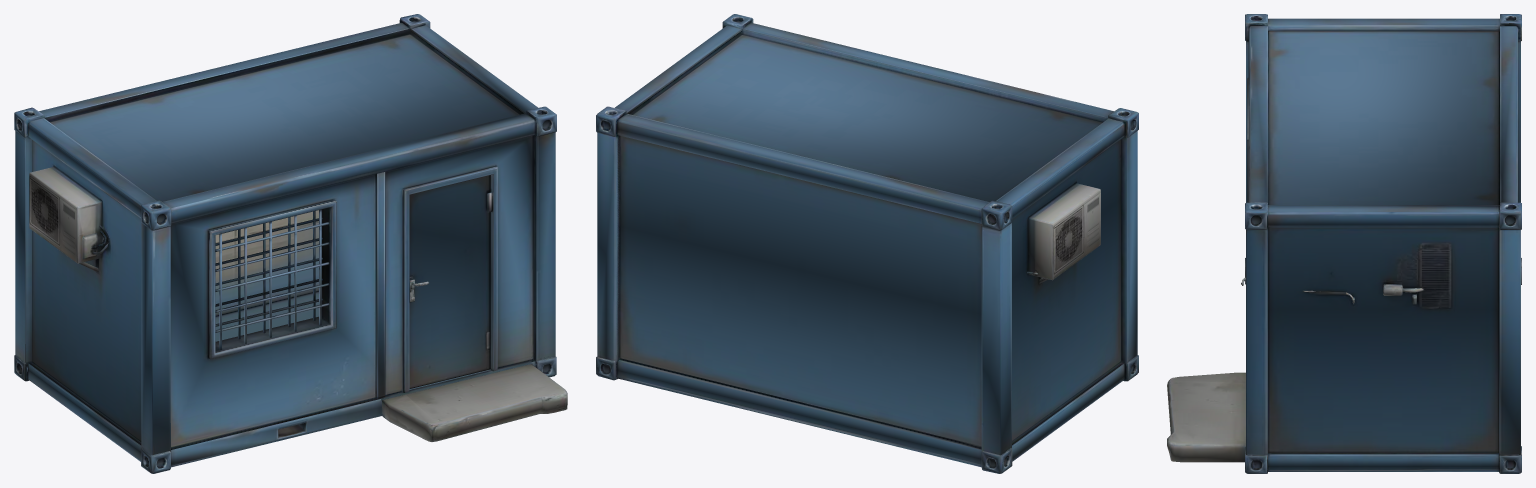
File: container_escritorio.glb
3 renders of one model, left to right at view 1: azimuth 30°, elevation 25°; view 2: azimuth 150°, elevation 25°; view 3: azimuth 270°, elevation 25°, orthographic.
Parts seen in each view (by area): view 1: Container escritório; view 2: Container escritório; view 3: Container escritório.
Boxes of the visible parts, x1,y1,x2,y2 form: Container escritório: [14, 14, 567, 473]; Container escritório: [596, 14, 1138, 473]; Container escritório: [1167, 14, 1521, 473].
Bounding box in the file's own units: 0.998 × 0.5879 × 0.7207.
Materials: 1 (1 with a texture image).
